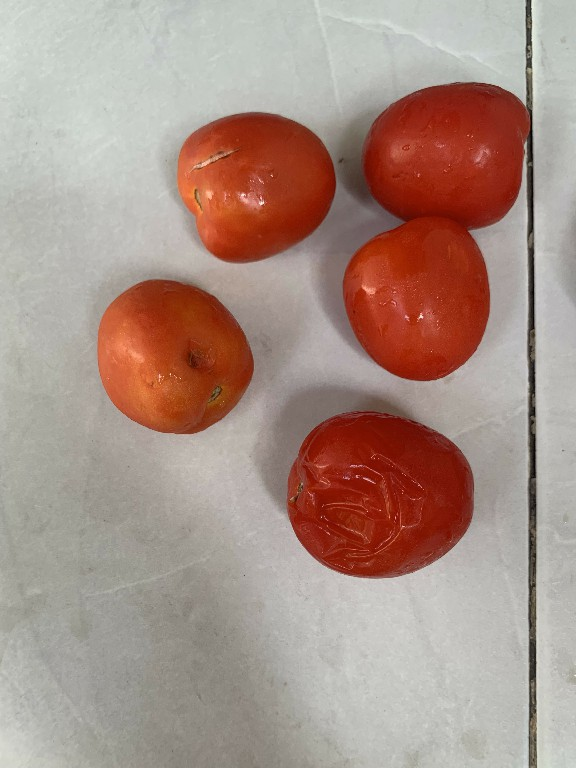NG: (278, 401, 487, 590), (82, 262, 256, 442), (175, 99, 337, 259)
OK: (335, 213, 497, 391), (356, 71, 527, 234)
